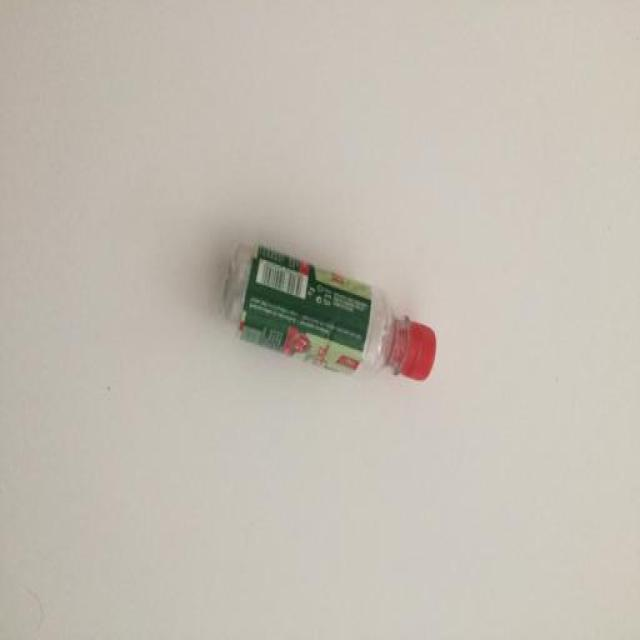Plastic: (225, 245, 438, 382)
